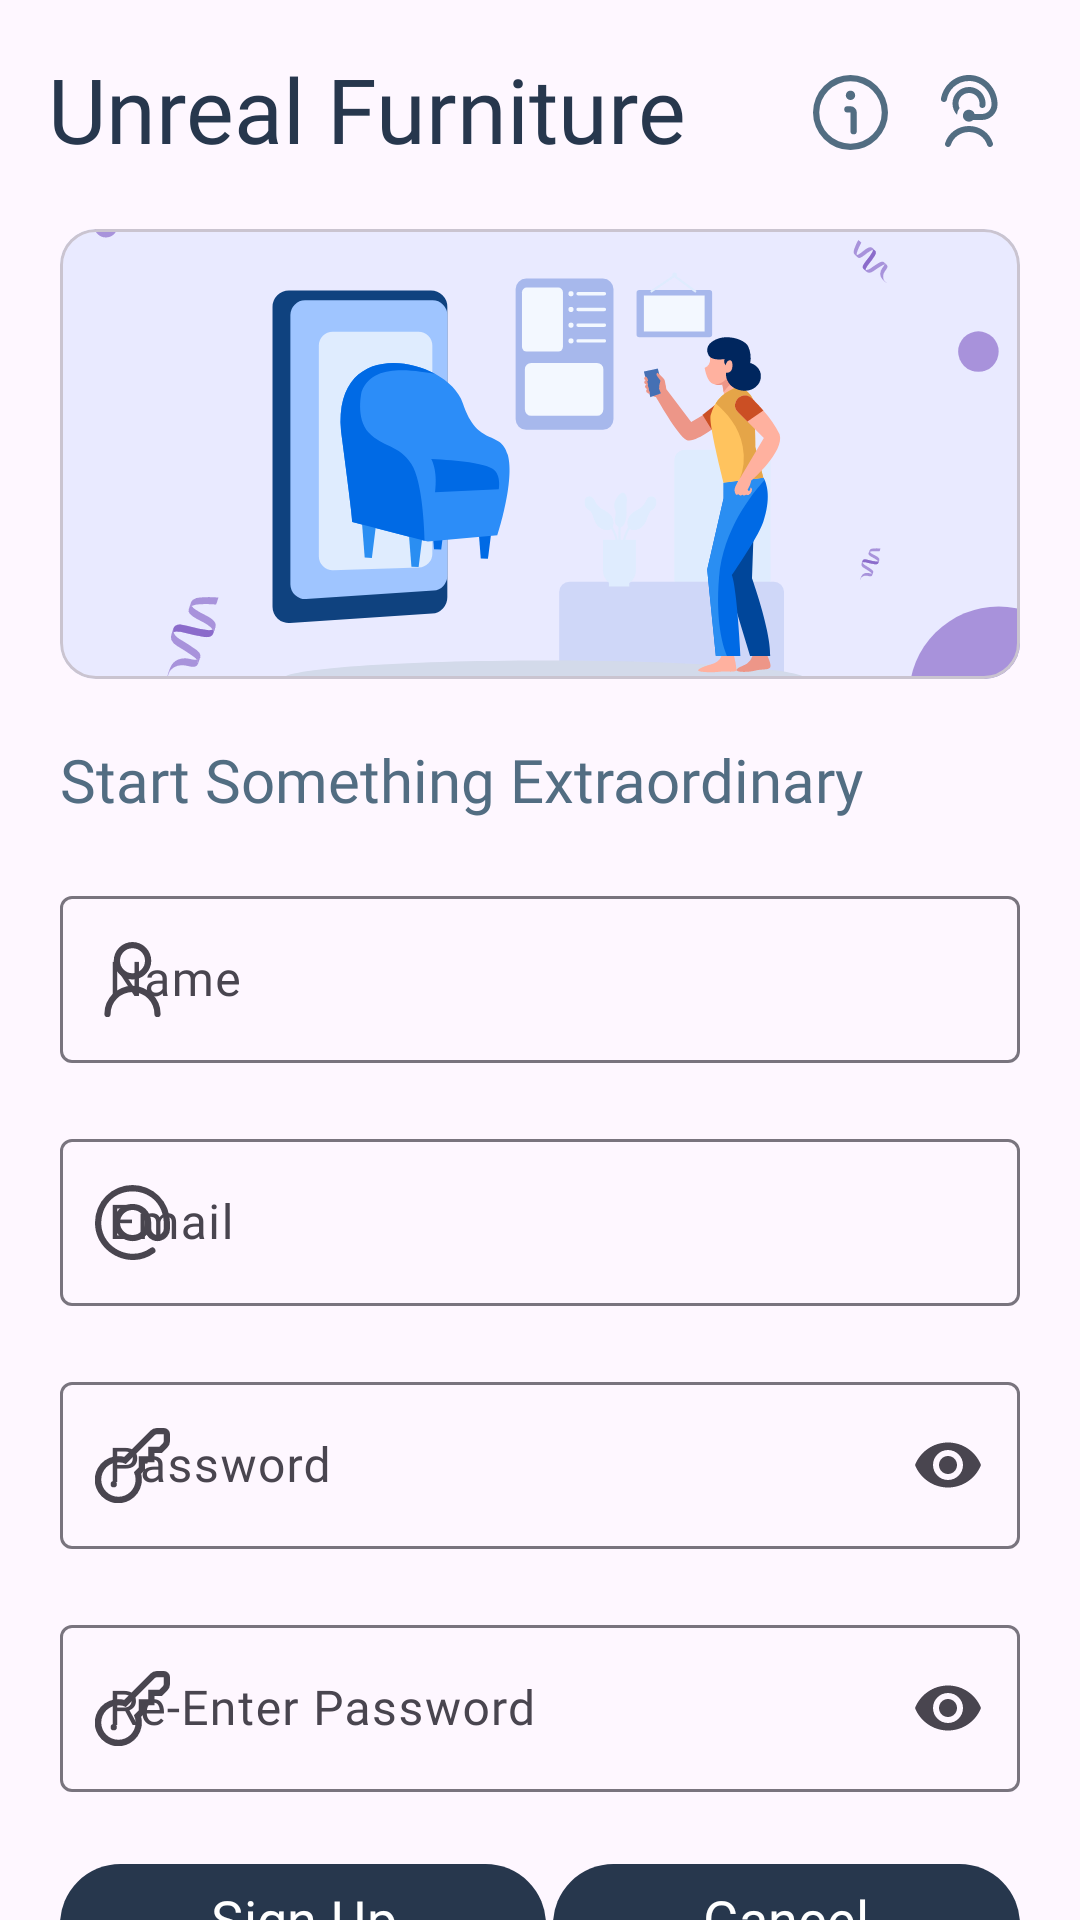

Screen size 1080px x 1920px. Icon name, then its box in pixels as (left=x1, top=y1, right=x2, bottom=y2):
info: (left=813, top=75, right=888, bottom=150)
support: (left=941, top=75, right=998, bottom=147)
